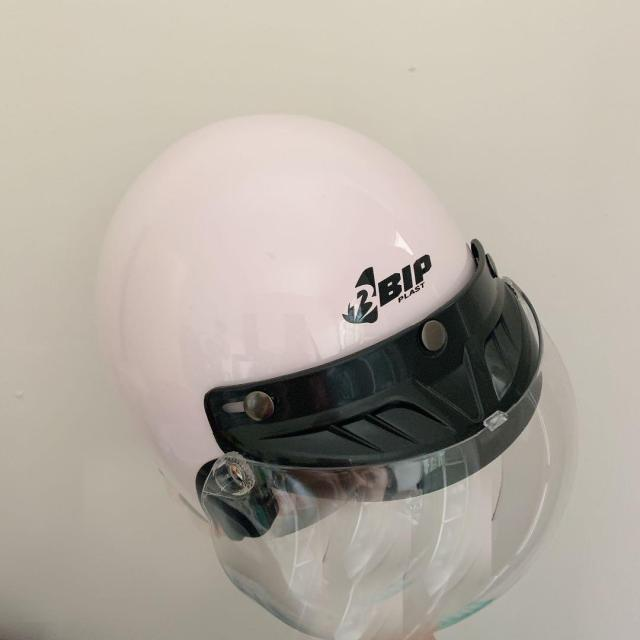Helm: (90, 100, 546, 640)
